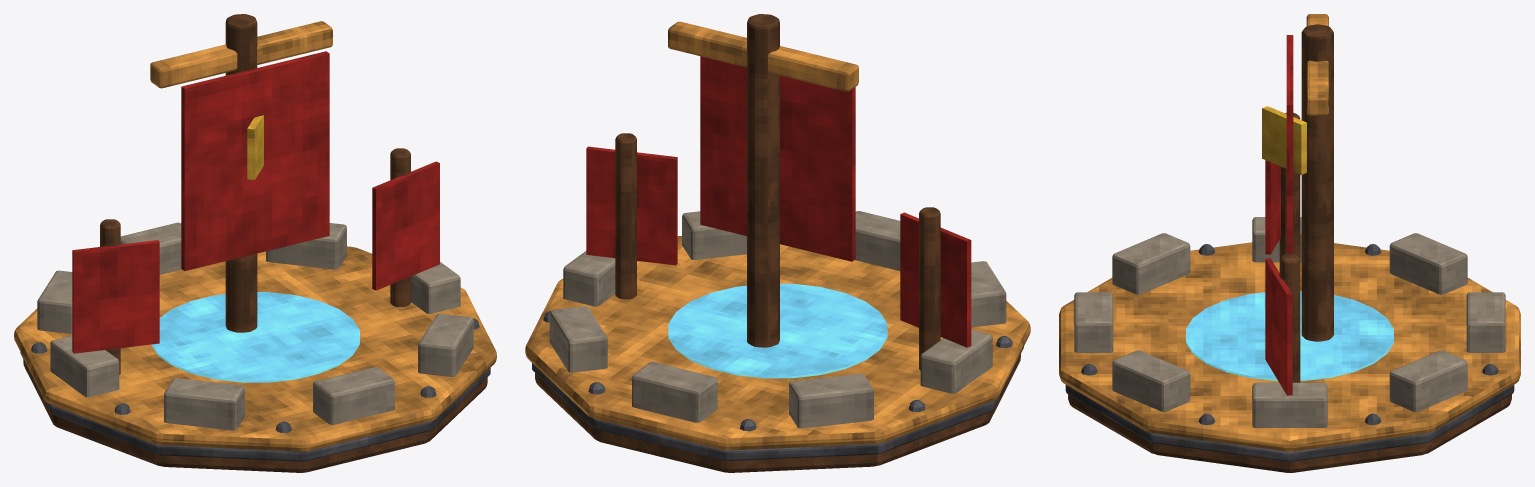
Rendered from top_stump.gltf.
3 renders of one model, left to right at view 1: azimuth 30°, elevation 25°; view 2: azimuth 150°, elevation 25°; view 3: azimuth 270°, elevation 25°, orthographic. The views are drawn at different scales.
Parts seen in each view (by area): view 1: Crown_pennant, Crown_brass, Tier3_stone_lite, Tier4_rune, Crown_wood, Tier2_iron, Crown_gold; view 2: Crown_brass, Crown_pennant, Tier3_stone_lite, Crown_wood, Tier4_rune, Tier2_iron; view 3: Crown_brass, Tier3_stone_lite, Crown_wood, Tier4_rune, Crown_pennant, Tier2_iron, Crown_gold.
Part boxes in pixels (x1,y1,x2,y2): Crown_pennant: (72, 51, 439, 353); Crown_brass: (14, 21, 496, 451); Tier3_stone_lite: (37, 222, 473, 430); Tier4_rune: (151, 292, 359, 382); Crown_wood: (23, 14, 487, 472); Tier2_iron: (20, 318, 490, 461); Crown_gold: (247, 115, 263, 179); Crown_brass: (525, 21, 1030, 450); Crown_pennant: (586, 56, 971, 347); Tier3_stone_lite: (549, 211, 1006, 428); Crown_wood: (535, 14, 1020, 472); Tier4_rune: (668, 283, 887, 378); Tier2_iron: (532, 311, 1023, 460); Crown_brass: (1059, 14, 1520, 451); Tier3_stone_lite: (1074, 217, 1505, 427); Crown_wood: (1068, 24, 1511, 472); Tier4_rune: (1186, 291, 1393, 380); Crown_pennant: (1265, 35, 1293, 395); Tier2_iron: (1065, 244, 1514, 461); Crown_gold: (1262, 106, 1306, 175).
Size of the model in its own units: 0.8693 by 0.69 by 0.8308.
7 materials, 7 textured.
